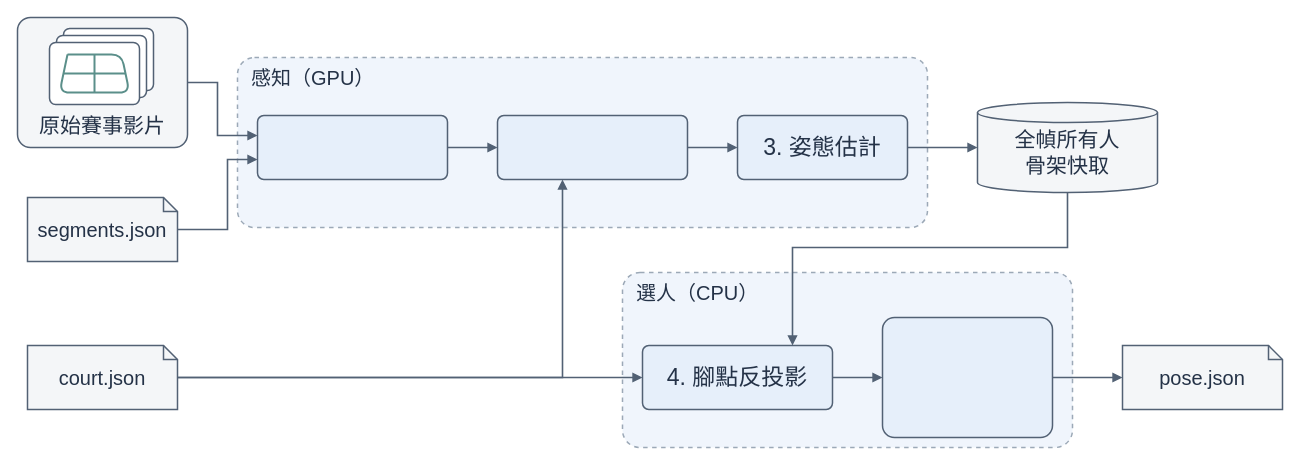
Some shapes in this 1301 by 466 pixel diagram are drawn without their labels. Each missing label, with the centre of its shape:
1. 人體位置偵測: (352,147)
2. 球場範圍預篩: (592,147)
5. 公尺身高 靜態錨點 記憶追蹤: (967,377)
